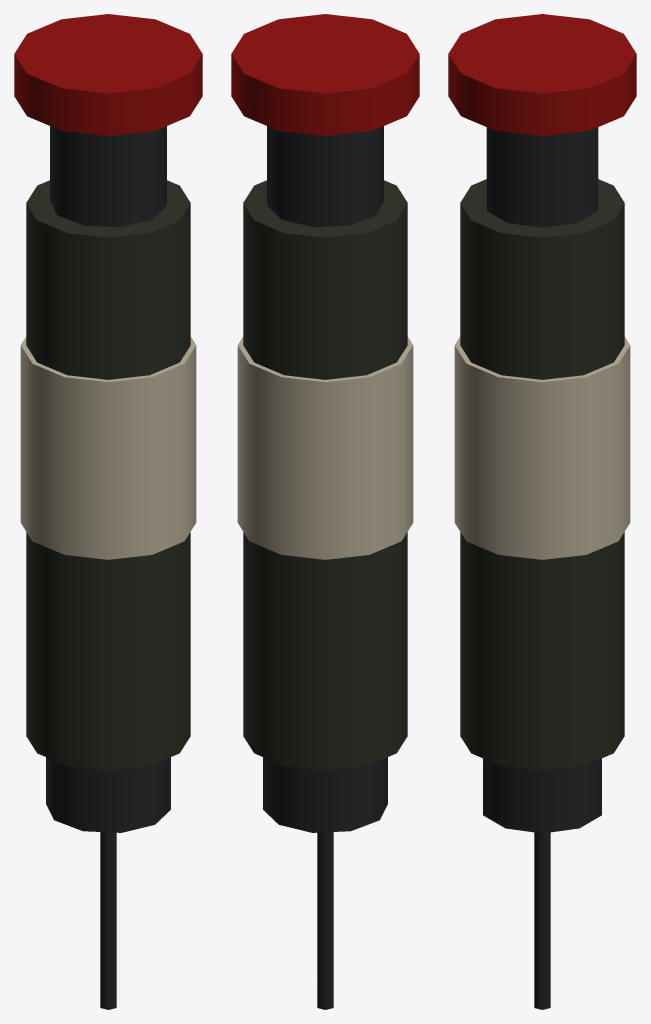
The model's file is revive_syrette.gltf.
3 renders of one model, left to right at view 1: azimuth 30°, elevation 25°; view 2: azimuth 150°, elevation 25°; view 3: azimuth 270°, elevation 25°, orthographic.
Visible parts, largest first — view 1: revive_syrette; view 2: revive_syrette; view 3: revive_syrette.
Boxes of the visible parts, left/top/right/bottom form: revive_syrette: left=14, top=14, right=202, bottom=1009; revive_syrette: left=231, top=14, right=419, bottom=1009; revive_syrette: left=448, top=14, right=636, bottom=1009.
Bounding box in the file's own units: 0.024 × 0.134 × 0.024.
